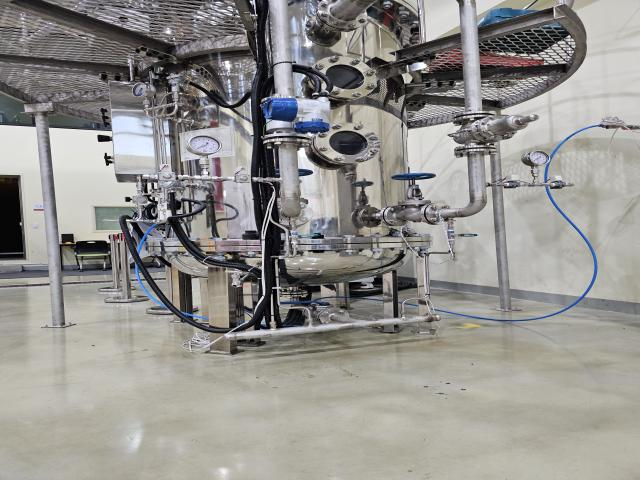Flange: (307, 54, 380, 103), (309, 122, 381, 168)
Flush Ring: (311, 0, 376, 32), (271, 200, 315, 228), (420, 199, 456, 224), (259, 133, 316, 147), (379, 205, 410, 227), (453, 144, 501, 158), (316, 307, 352, 325), (448, 110, 498, 122)
GasRegulator: (130, 71, 207, 126)
Nuts: (152, 170, 184, 184), (498, 180, 530, 194), (229, 170, 258, 185), (543, 178, 570, 192)
Piston Valve: (390, 164, 439, 206), (297, 166, 315, 199)
Pressure Gage: (184, 133, 224, 178), (518, 148, 557, 184)
